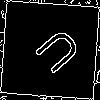U: (25, 25, 84, 83)
